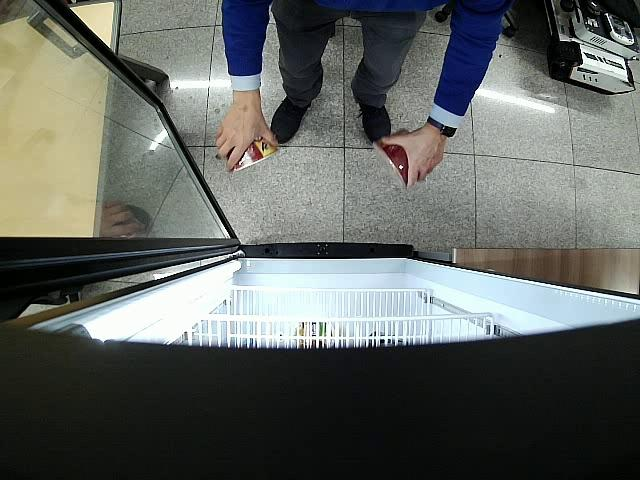00_hand: (215, 101, 278, 170), (381, 125, 444, 190)
05_nuguri_L: (373, 128, 408, 188), (227, 136, 278, 172)
